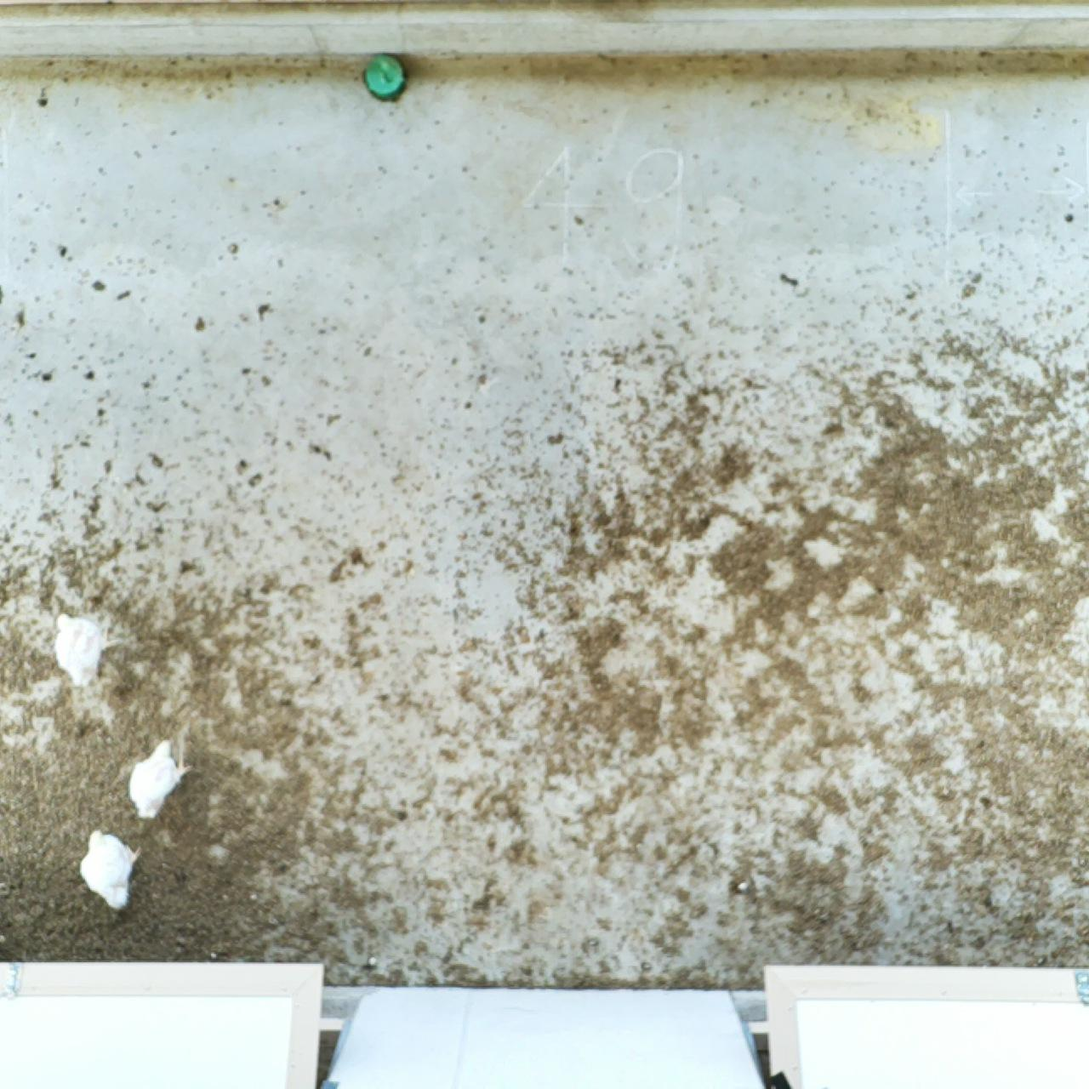chicken: (78, 827, 145, 912), (128, 736, 194, 821), (53, 610, 120, 688)
